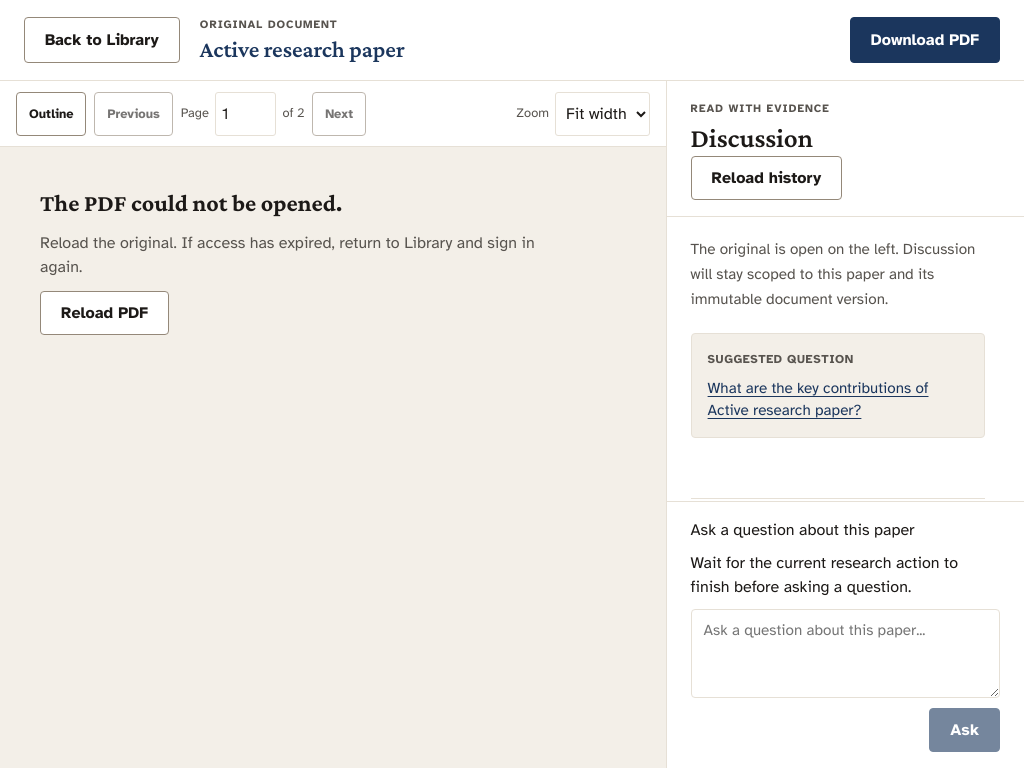
Test case: excludes all generation while a restored run is pending and permits a saved-state reload
This screenshot has width=1024, height=768.
In the text box labelled "Ask a question about this paper": (845, 654) [691, 609, 1000, 698], type "An active question"
(page scrolled)
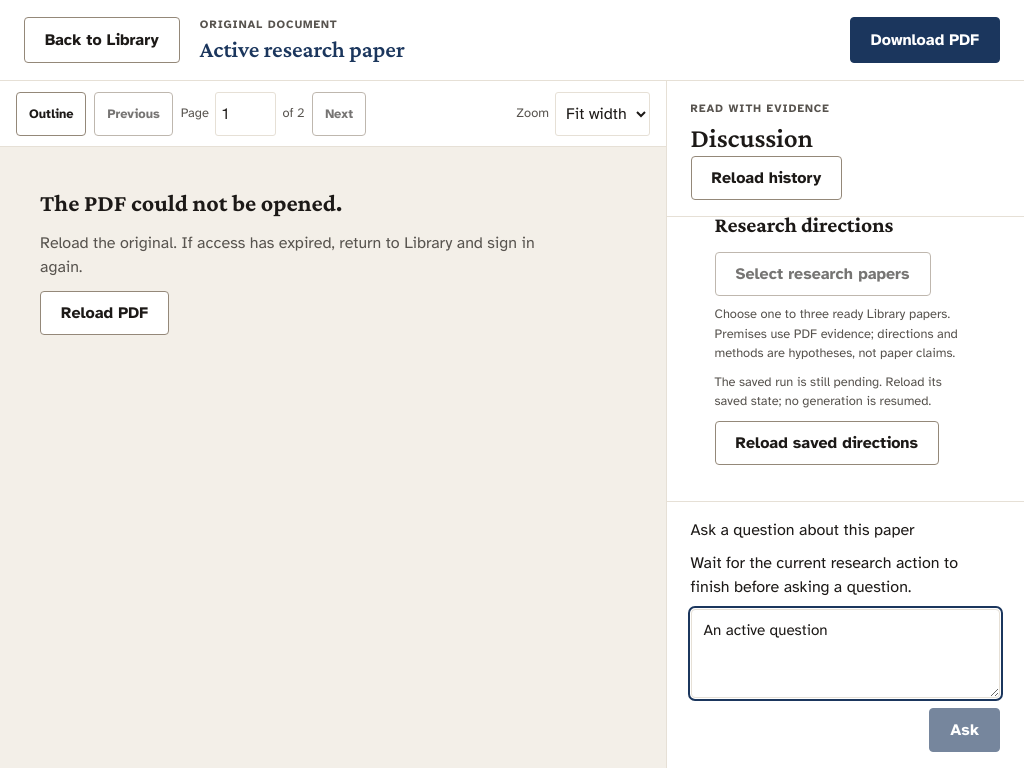
Check: the button "Ask" is disabled, box [929, 708, 1000, 752]
Check: the button "Select research papers" is disabled, box [715, 252, 931, 296]
Click the button "Reload saved directions": (827, 443) [715, 421, 939, 465]
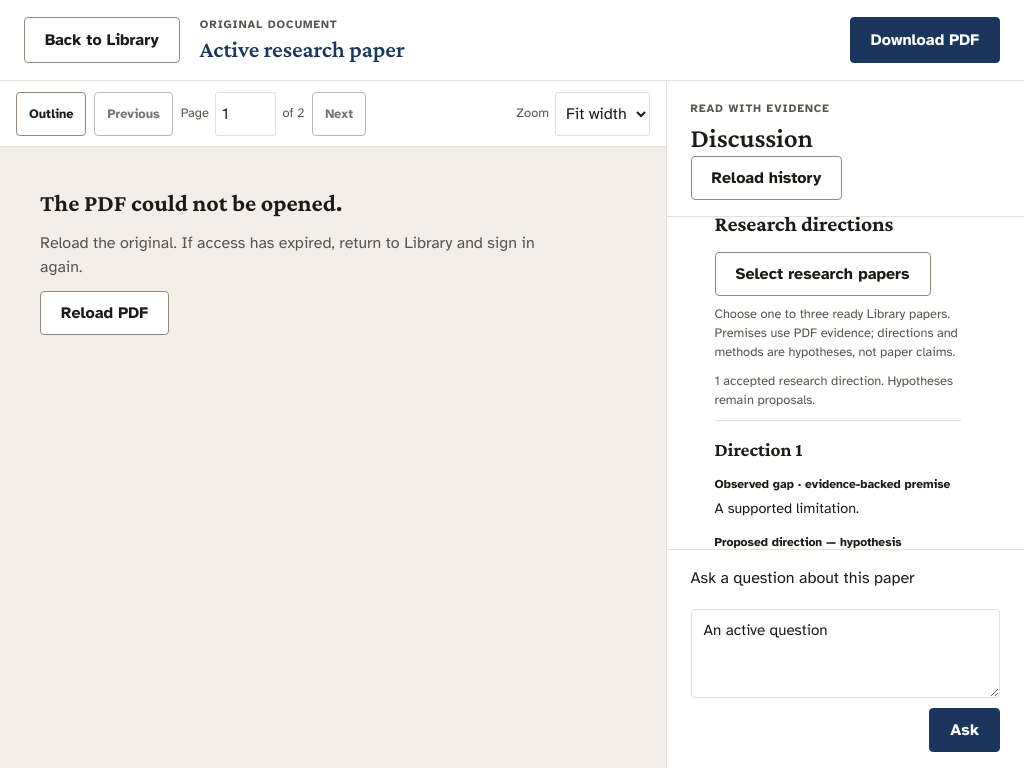
Check: the button "Ask" is enabled, box [929, 708, 1000, 752]
